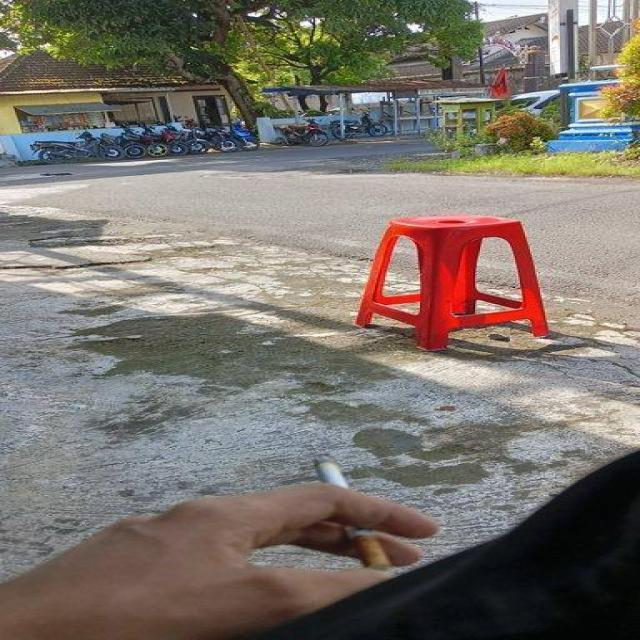rokok: (310, 444, 390, 570)
